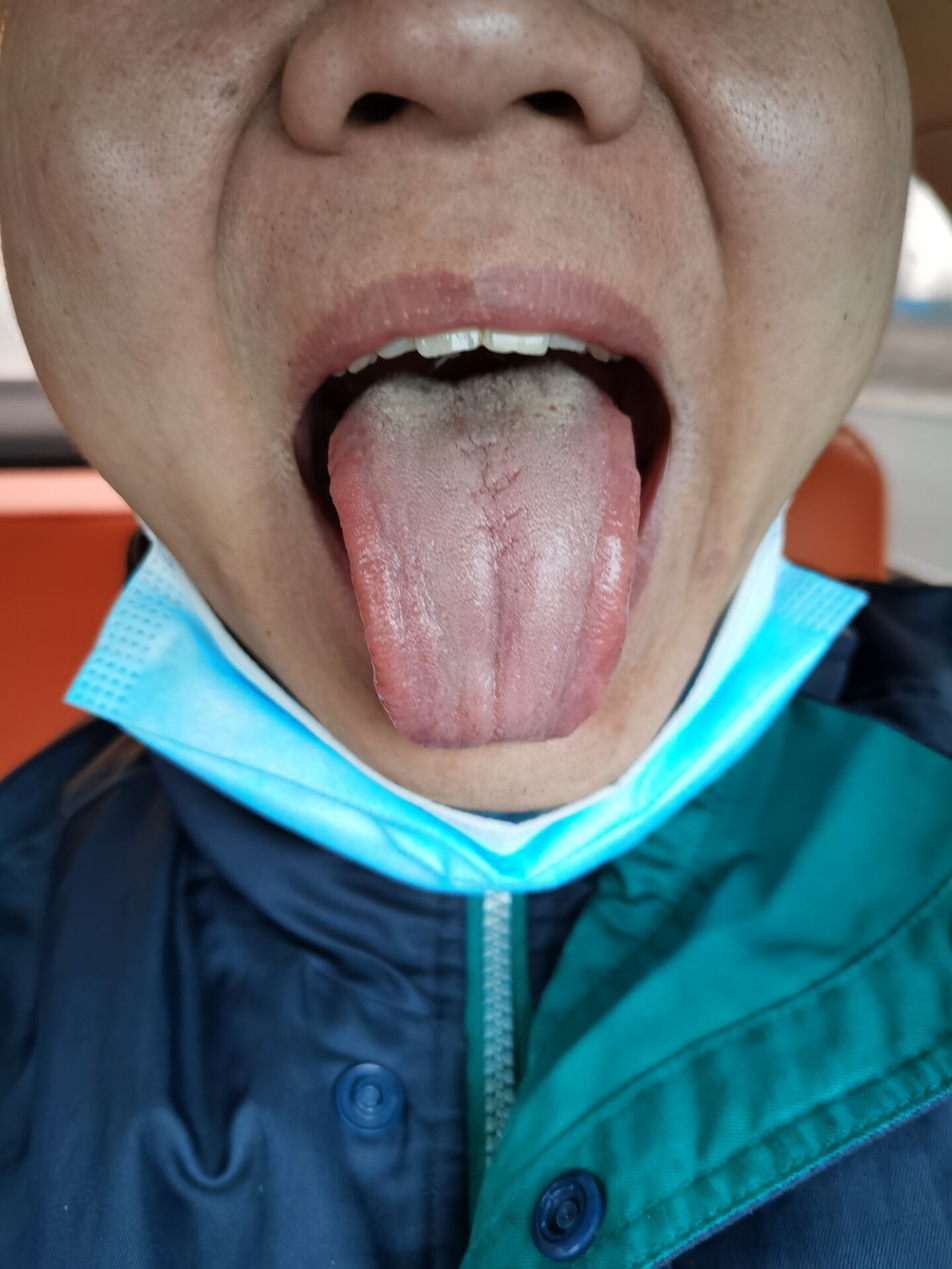baitaishe: (329, 363, 639, 748)
liewenshe: (456, 436, 524, 602)
